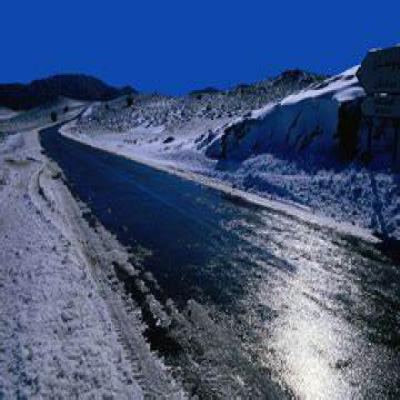iced-road: (40, 128, 400, 400)
